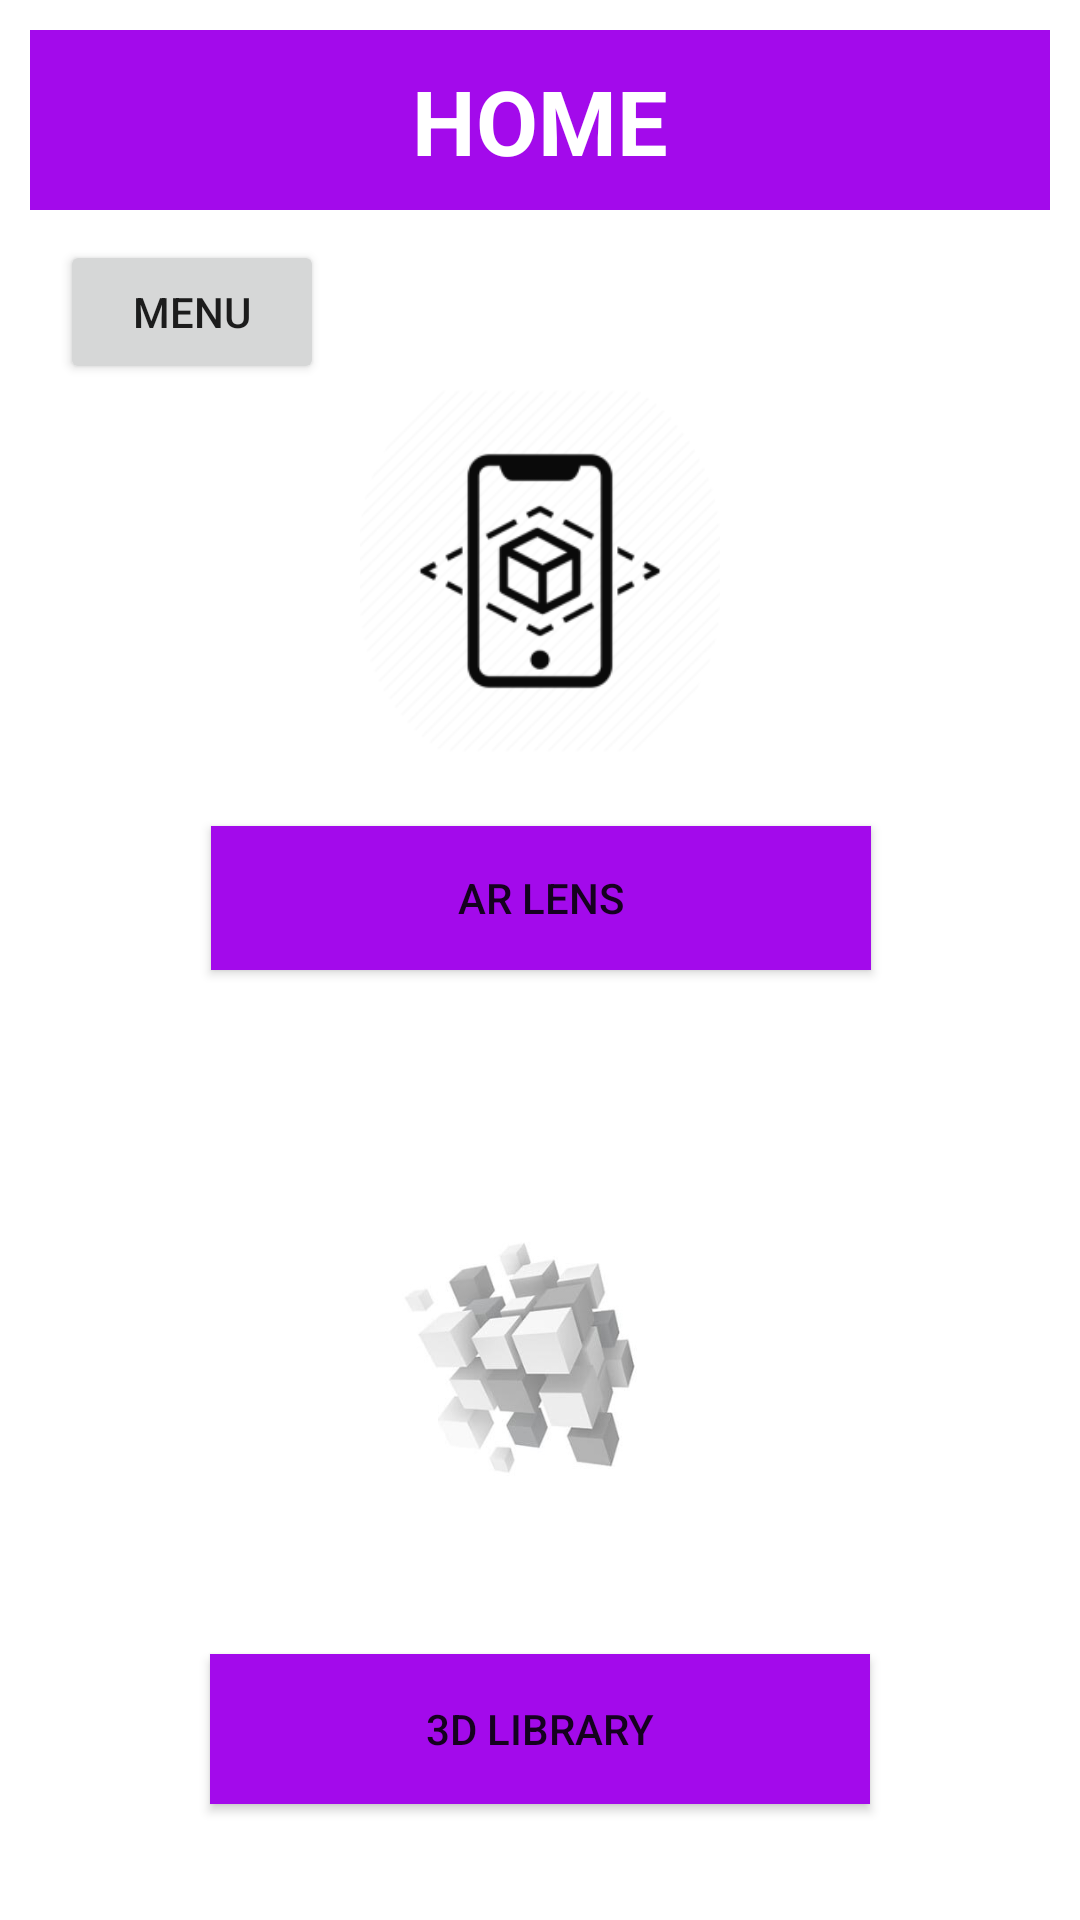

Named icons in this screenshot (1080px x 1920px) and their centers, [x,y]:
ar cam: [540,571]
